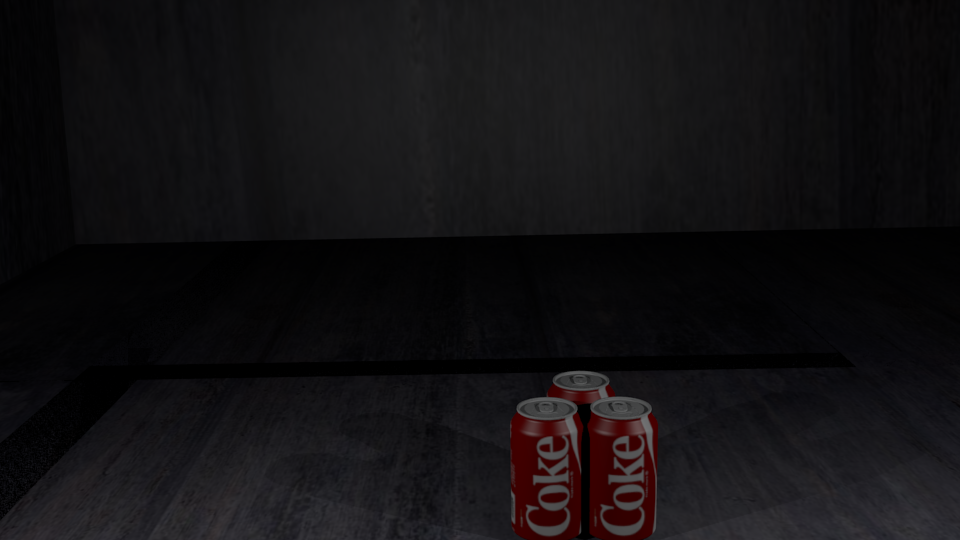cola_can: (510, 398, 583, 539), (584, 397, 657, 537), (547, 371, 614, 503)
